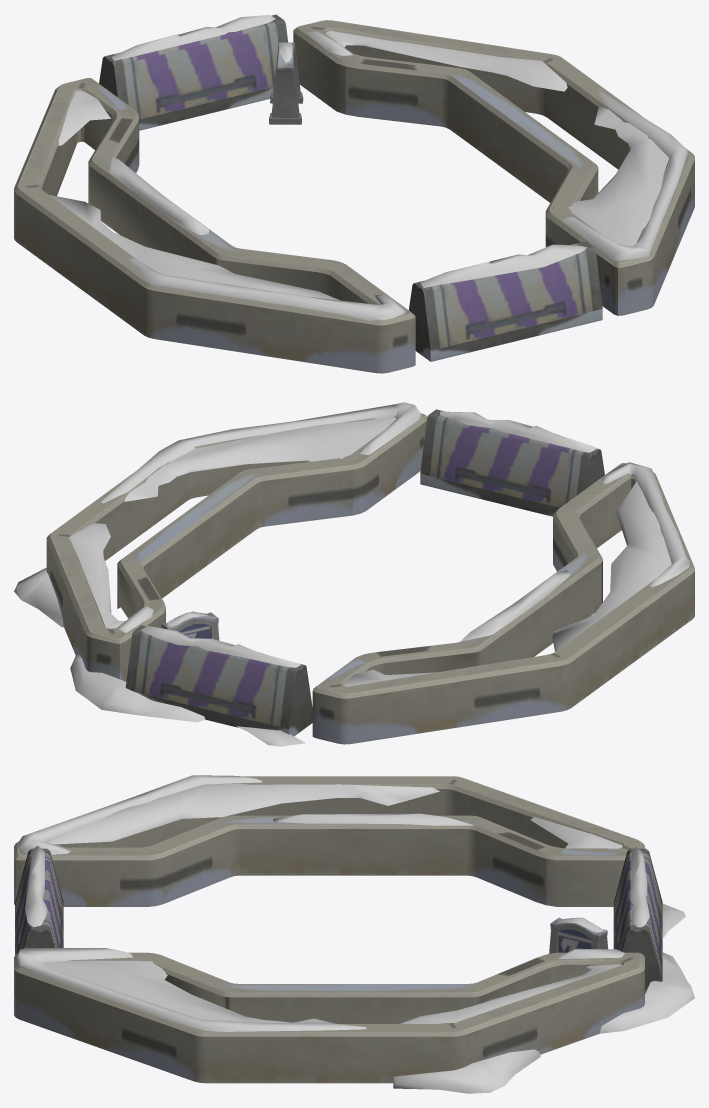
Rendered from pref_sm_city_ramen05a_snow_lv3.fbx.
3 renders of one model, top to bottom at view 1: azimuth 30°, elevation 25°; view 2: azimuth 150°, elevation 25°; view 3: azimuth 270°, elevation 25°, orthographic. The views are drawn at different scales.
Parts seen in each view (by area): view 1: sm_city_ramen05a_snow_lv3, sm_city_ramen05a2_snow_lv3; view 2: sm_city_ramen05a_snow_lv3, sm_city_ramen05a2_snow_lv3; view 3: sm_city_ramen05a_snow_lv3, sm_city_ramen05a2_snow_lv3.
Part boxes in pixels (<box>): sm_city_ramen05a_snow_lv3: <box>14,14,694,373</box>; sm_city_ramen05a2_snow_lv3: <box>49,15,687,321</box>; sm_city_ramen05a_snow_lv3: <box>46,409,694,744</box>; sm_city_ramen05a2_snow_lv3: <box>14,402,689,746</box>; sm_city_ramen05a_snow_lv3: <box>14,776,662,1083</box>; sm_city_ramen05a2_snow_lv3: <box>16,775,694,1093</box>.
Bounding box in the file's own units: 10.5 × 1.41 × 11.27.
